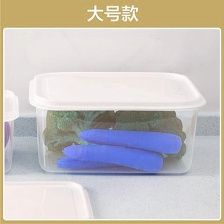plastic_box: (24, 63, 212, 180), (2, 81, 24, 177)
